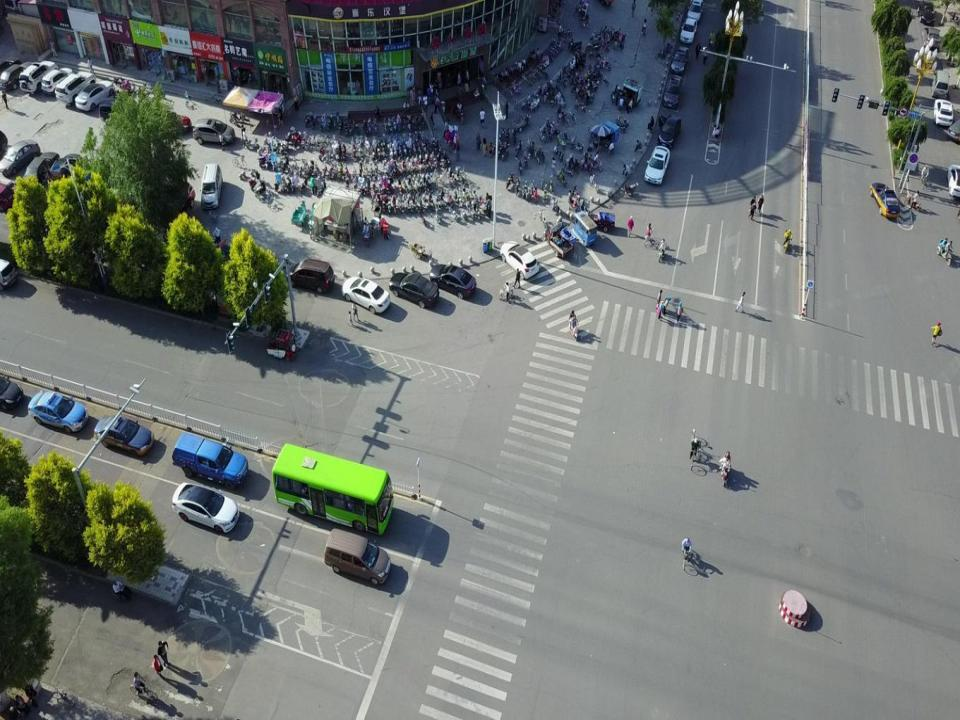bus: (270, 442, 394, 534)
car: (170, 483, 237, 533), (28, 390, 88, 434), (94, 416, 152, 456), (49, 148, 88, 198), (391, 268, 439, 308), (342, 275, 391, 313), (431, 262, 477, 300), (55, 69, 96, 106), (500, 242, 540, 278), (1, 139, 41, 174), (20, 58, 56, 95), (150, 103, 192, 134), (24, 153, 60, 189), (192, 118, 237, 146), (76, 76, 108, 112), (871, 183, 901, 219), (41, 66, 73, 96), (267, 329, 296, 362), (645, 147, 669, 186), (571, 212, 599, 244), (656, 114, 681, 144), (662, 76, 680, 109), (934, 97, 954, 126), (671, 48, 689, 75), (946, 161, 960, 194), (680, 19, 696, 43), (685, 0, 708, 16)
truck: (172, 431, 248, 489)
van: (323, 526, 389, 586), (291, 258, 335, 294), (201, 163, 223, 208), (931, 70, 950, 95)
